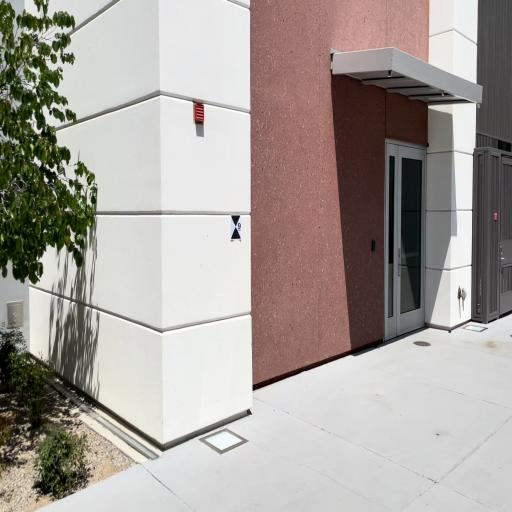target9: (231, 215, 242, 239)
